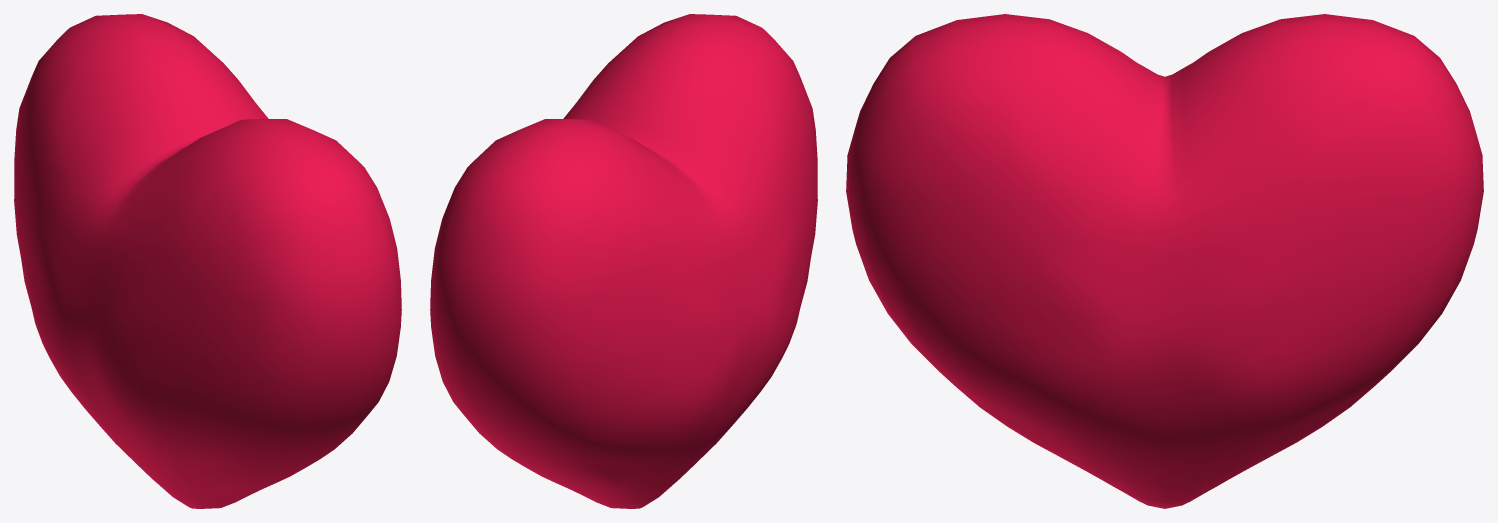
Rendered from emoj_01.fbx.
3 renders of one model, left to right at view 1: azimuth 30°, elevation 25°; view 2: azimuth 150°, elevation 25°; view 3: azimuth 270°, elevation 25°, orthographic. The views are drawn at different scales.
Parts seen in each view (by area): view 1: Emoji_01; view 2: Emoji_01; view 3: Emoji_01.
Boxes of the visible parts, box(x1,y1,x2,y2) form: Emoji_01: box(14, 14, 401, 508); Emoji_01: box(430, 14, 817, 508); Emoji_01: box(846, 14, 1483, 508).
Size of the model in its own units: 8.2 by 13.1 by 15.73.
